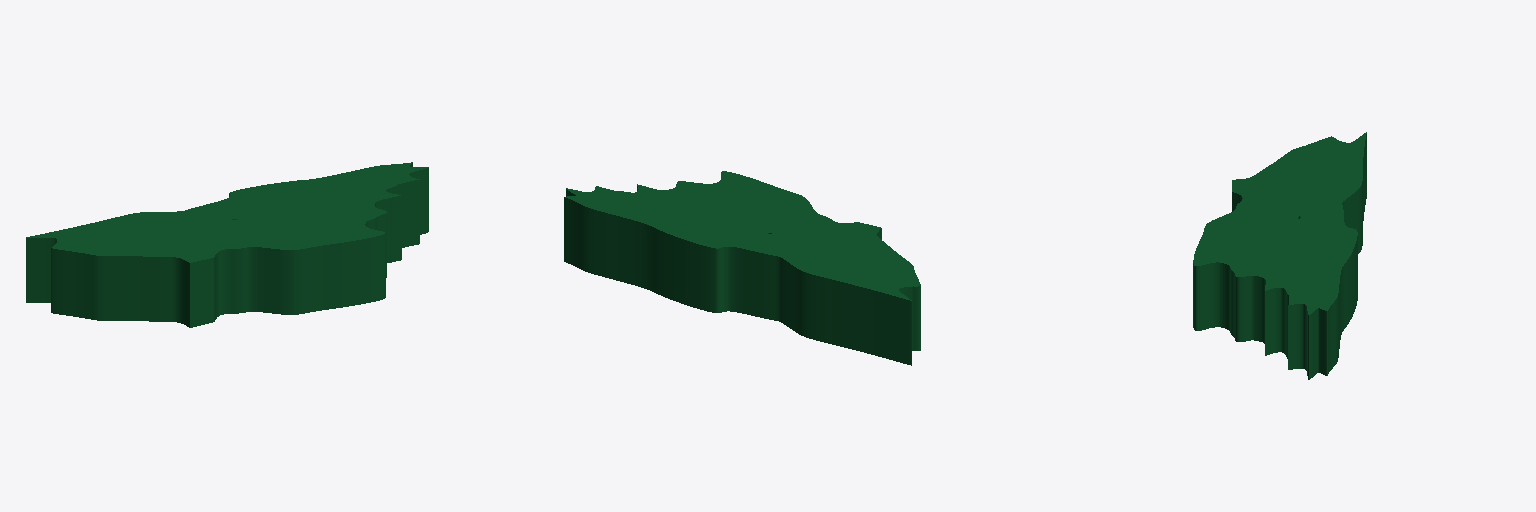
File: Asia_12.obj
3 renders of one model, left to right at view 1: azimuth 30°, elevation 25°; view 2: azimuth 150°, elevation 25°; view 3: azimuth 270°, elevation 25°, orthographic.
Visible parts, largest first — view 1: Asia_12_path4258; view 2: Asia_12_path4258; view 3: Asia_12_path4258.
Boxes of the visible parts, box(x1,y1,x2,y2) form: Asia_12_path4258: box(26, 162, 428, 327); Asia_12_path4258: box(564, 171, 920, 365); Asia_12_path4258: box(1193, 132, 1366, 379).
Size of the model in its own units: 0.6042 by 0.1 by 0.2421.